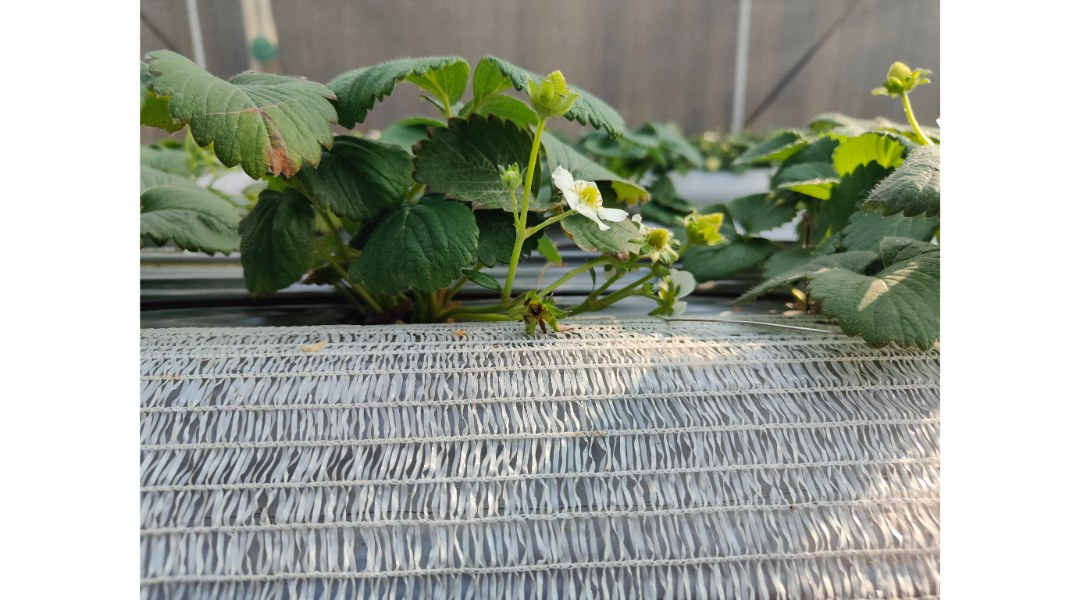berry: (516, 51, 581, 128), (683, 207, 731, 244), (638, 219, 674, 268), (490, 160, 524, 194)
flower: (547, 162, 628, 238)
strain: (517, 113, 549, 235), (537, 261, 596, 303), (530, 211, 578, 239), (503, 236, 521, 305)
